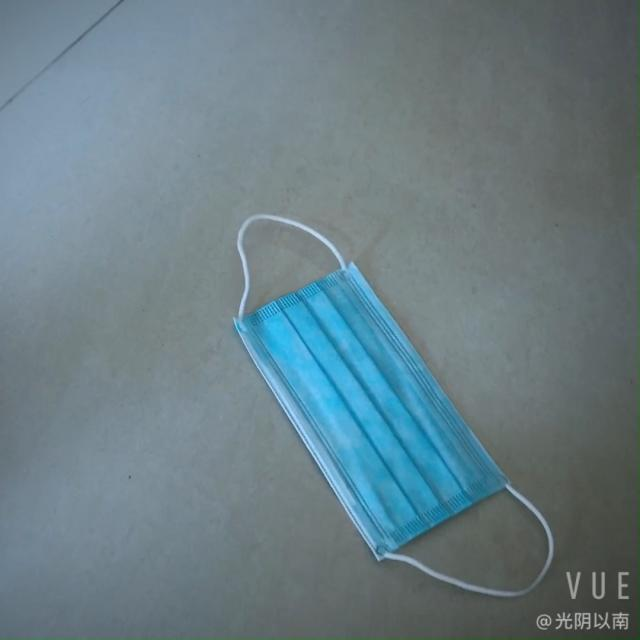non-organic waste: (220, 252, 517, 568)
